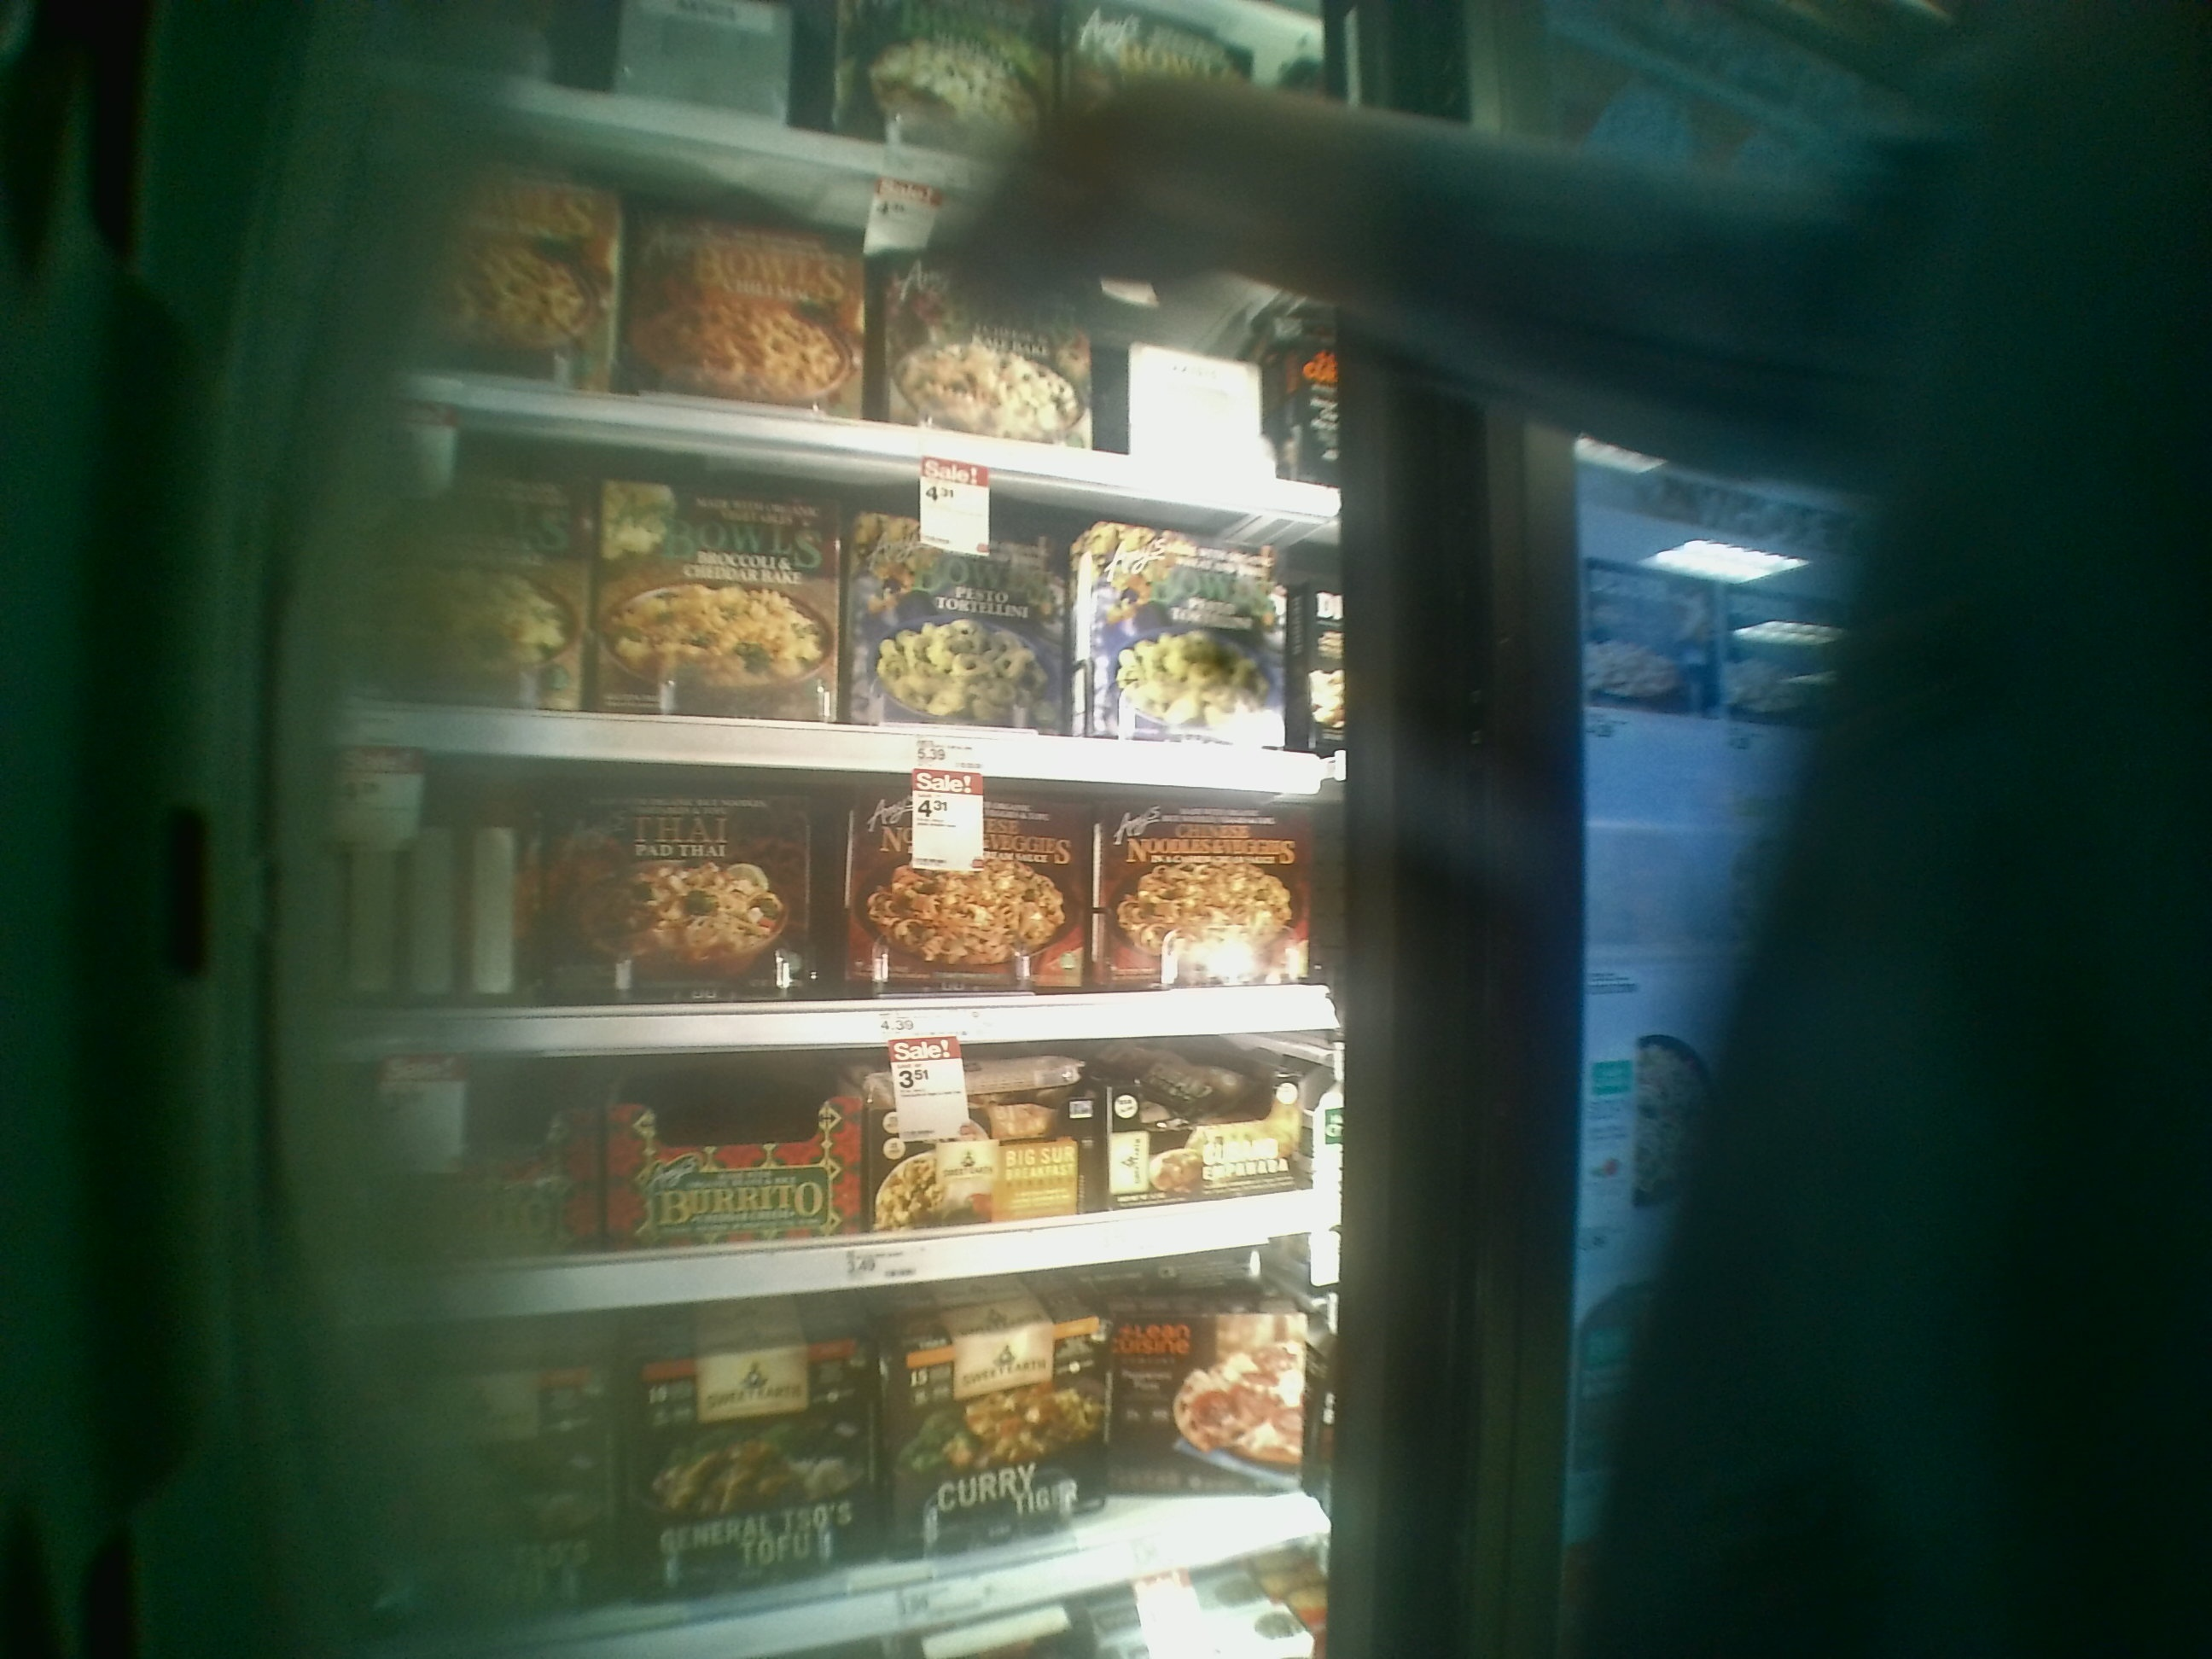shelf: (286, 742, 1339, 1028), (287, 1054, 1336, 1314)
